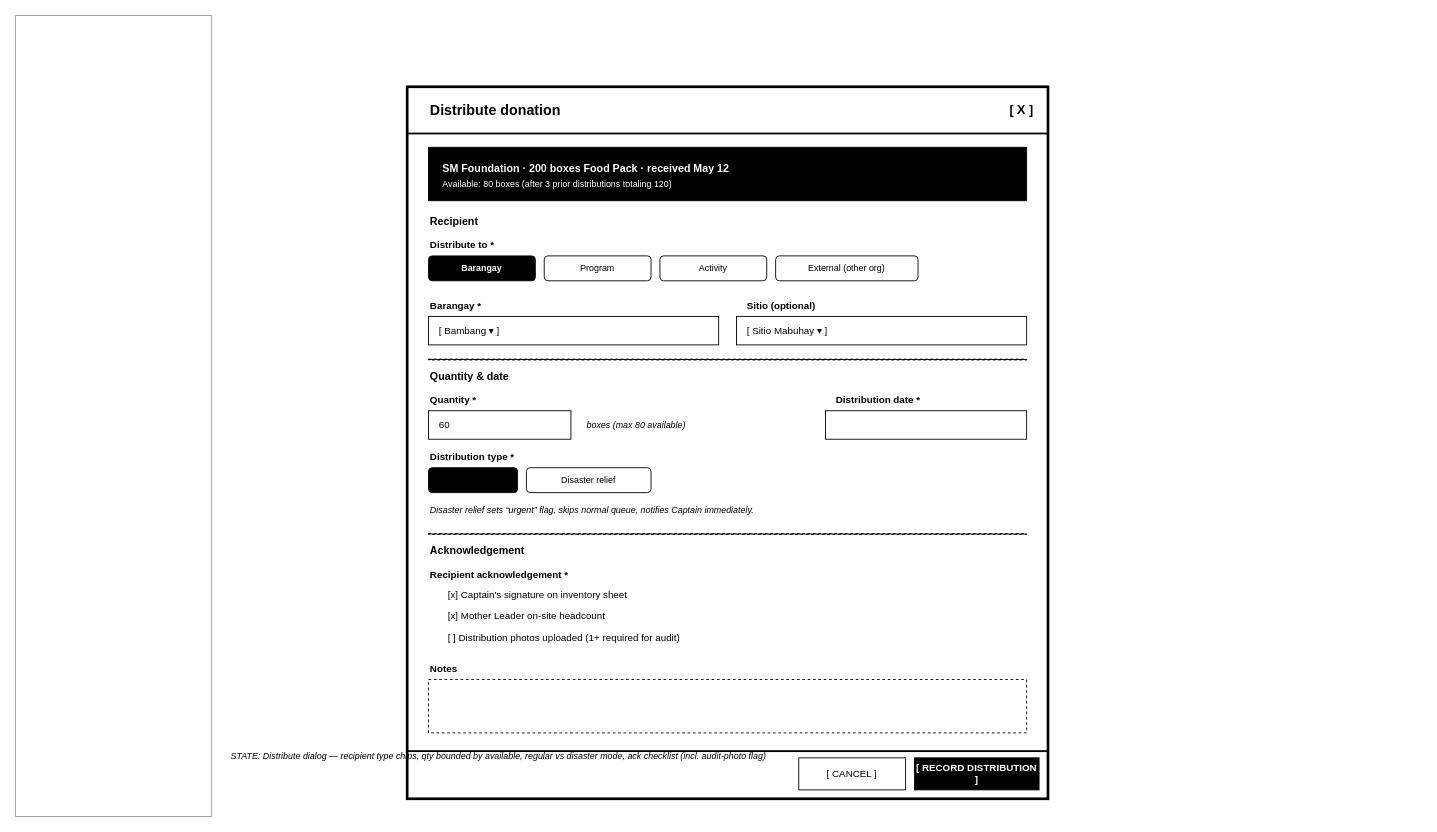
The diagram is 1437 pixels wide and 832 high, and some of its shapes have lost their labels. The shapes that lost their labels are listed below. From the top down, each one's centre as x and y in pixels, then its label:
the point at 113,416: AGAPE
the point at 926,424: May 15, 2026 (today)
the point at 473,480: Regular
the point at 727,706: e.g. distributed to 60 priority households identified via May 14 needs survey
